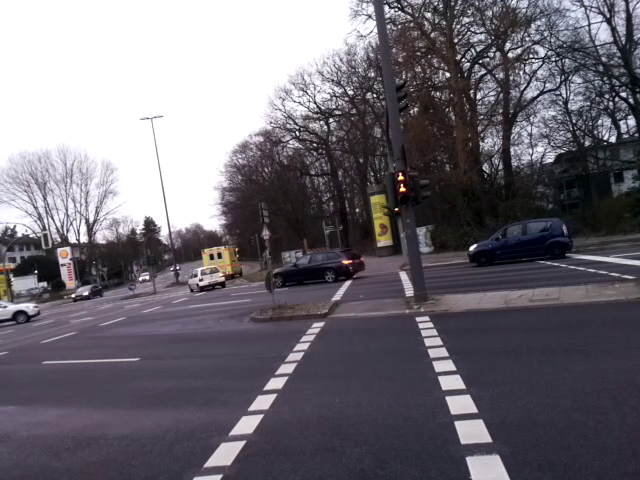car: (461, 216, 577, 264)
